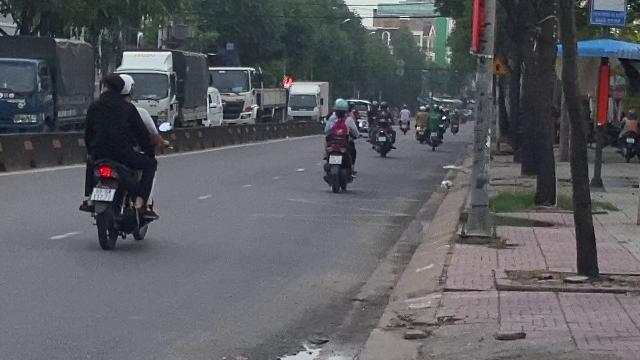helmet: (114, 73, 134, 99)
licenseplate: (92, 187, 114, 201)
motorcyclist: (74, 70, 164, 250)
nohelmet: (99, 72, 123, 98)
